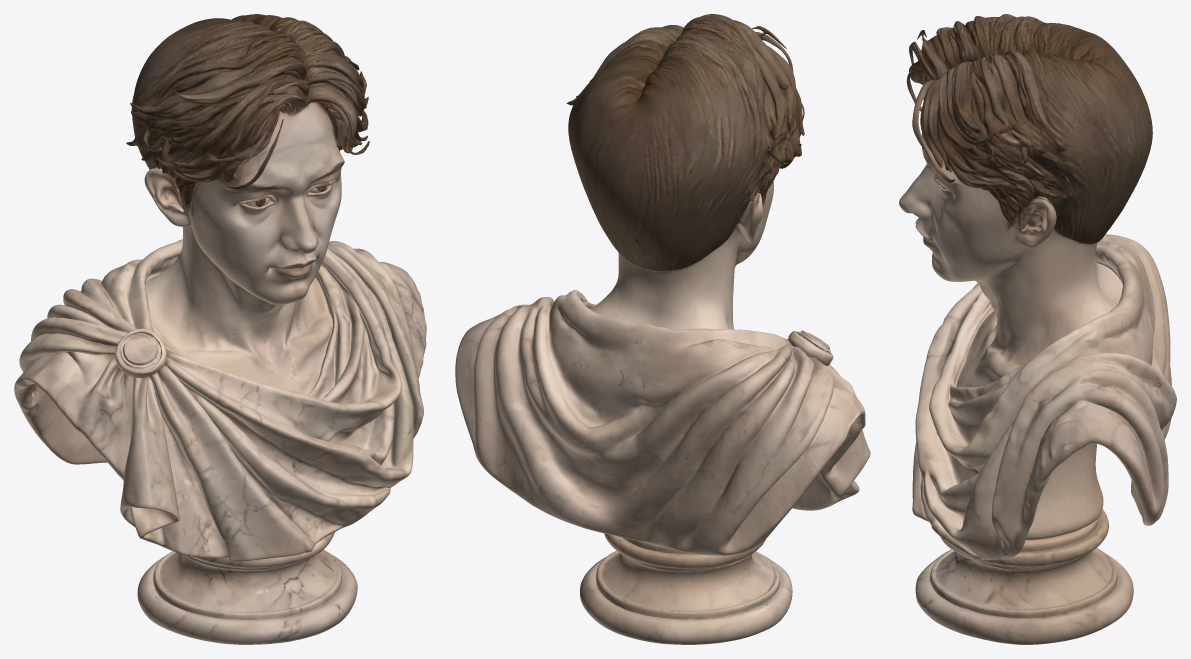
The picture shows the model from 3 angles, left to right: view 1: azimuth 30°, elevation 25°; view 2: azimuth 150°, elevation 25°; view 3: azimuth 270°, elevation 25°; orthographic projection. The views are drawn at different scales.
Visible parts, largest first — view 1: model; view 2: model; view 3: model.
Part boxes in pixels (bbox=[...]): model: bbox=[14, 14, 426, 644]; model: bbox=[455, 14, 870, 644]; model: bbox=[899, 14, 1176, 644].
Bounding box in the file's own units: 1.33 × 1.9 × 0.824.
Materials: 1 (1 with a texture image).
